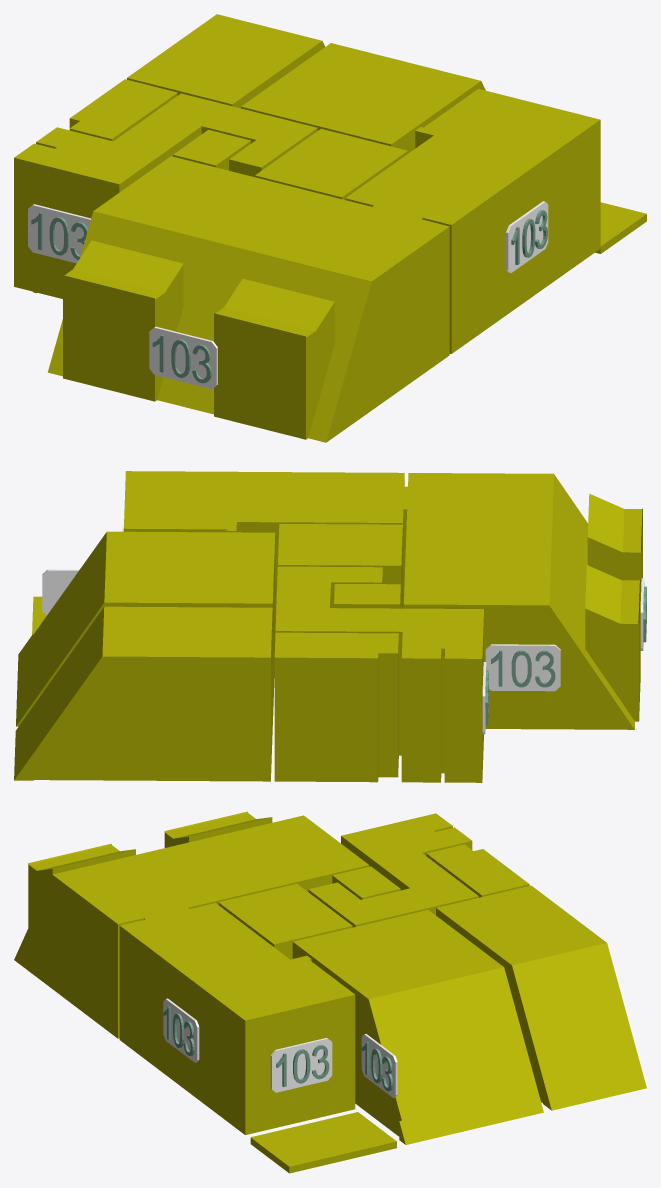
The picture shows the model from 3 angles, top to bottom: view 1: azimuth 30°, elevation 25°; view 2: azimuth 150°, elevation 25°; view 3: azimuth 270°, elevation 25°; orthographic projection. The views are drawn at different scales.
Visible parts, largest first — view 1: g_0, g_1, g_5, g_2, g_3, g_4, g_7, g_16, g_24, g_6, g_8, g_12; view 2: g_0, g_3, g_5, g_2, g_7, g_1, g_4, g_28, g_6, g_32; view 3: g_1, g_2, g_0, g_3, g_5, g_8, g_4, g_7, g_20, g_6, g_32, g_12.
Boxes of the visible parts, <box> form: g_0: <box>47,156,449,442</box>; g_1: <box>345,89,600,353</box>; g_5: <box>14,93,317,298</box>; g_2: <box>241,43,485,153</box>; g_3: <box>127,14,325,108</box>; g_4: <box>255,128,407,199</box>; g_7: <box>69,79,177,141</box>; g_16: <box>149,326,217,389</box>; g_24: <box>28,204,90,263</box>; g_6: <box>173,130,250,170</box>; g_8: <box>595,202,646,253</box>; g_12: <box>506,201,548,272</box>; g_0: <box>404,473,642,729</box>; g_3: <box>14,606,272,781</box>; g_5: <box>275,566,483,782</box>; g_2: <box>16,531,275,726</box>; g_7: <box>274,632,398,782</box>; g_1: <box>123,471,405,632</box>; g_4: <box>278,524,402,608</box>; g_28: <box>485,644,560,691</box>; g_6: <box>334,584,400,608</box>; g_32: <box>42,569,79,614</box>; g_1: <box>119,903,355,1134</box>; g_2: <box>292,910,543,1144</box>; g_0: <box>14,811,369,1038</box>; g_3: <box>436,885,646,1110</box>; g_5: <box>308,813,478,927</box>; g_8: <box>250,1112,396,1173</box>; g_4: <box>218,884,352,959</box>; g_7: <box>426,844,529,897</box>; g_20: <box>270,1038,332,1092</box>; g_6: <box>332,866,400,899</box>; g_32: <box>361,1034,397,1097</box>; g_12: <box>163,998,199,1062</box>.
Size of the model in its own units: 12.64 by 2.71 by 12.75.
